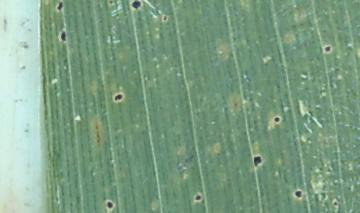tarspot: (253, 154, 262, 167), (55, 2, 64, 13), (131, 1, 142, 10), (59, 30, 67, 42), (113, 94, 124, 102), (322, 45, 332, 53), (106, 202, 114, 210), (294, 190, 302, 198), (194, 194, 201, 201), (273, 116, 280, 123), (161, 14, 168, 21), (332, 200, 338, 207), (108, 1, 114, 6)
